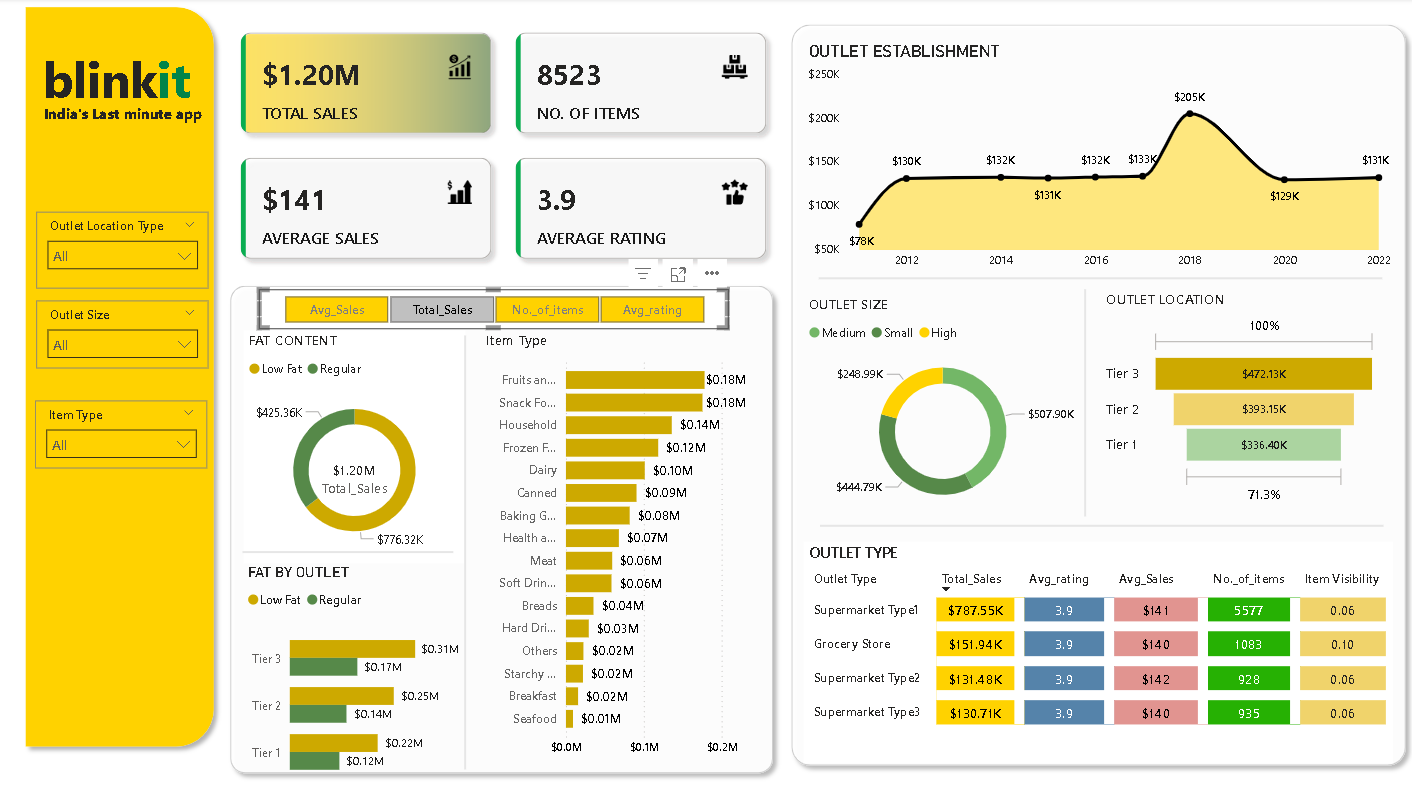

The page's visual inventory and layout, read from the dashboard file:
{"tool":"powerbi","page":{"name":"Page 1","canvas":[1400,800],"ordinal":0},"visuals":[{"type":"shape","box":[16.4,0,204.5,749.8],"z":0},{"type":"textbox","box":[24.5,42.3,181.3,90],"z":1000},{"type":"textbox","box":[31.4,99.5,181.3,32.7],"z":2000},{"type":"cardVisual","fields":{"Data":["BlinkIT Grocery Data.Total_Sales","BlinkIT Grocery Data.No._of_items","BlinkIT Grocery Data.Avg_Sales","BlinkIT Grocery Data.Avg_rating"]},"box":[220.9,17.7,554.9,259],"z":3000},{"type":"shape","box":[219.5,275.4,554.9,500.3],"z":4000},{"type":"donutChart","title":"FAT CONTENT","fields":{"Y":["BlinkIT Grocery Data.No._of_items"],"Category":["BlinkIT Grocery Data.Item Fat Content"]},"box":[241.3,328.6,219.5,230.4],"z":5000},{"type":"slicer","fields":{"Values":["Metrics.Metrics"]},"box":[256.3,287.7,464.9,39.5],"z":6000},{"type":"cardVisual","fields":{"Data":["BlinkIT Grocery Data.No._of_items"]},"box":[291.8,440.4,118.6,61.4],"z":7000},{"type":"clusteredBarChart","title":"FAT BY OUTLET","fields":{"Y":["BlinkIT Grocery Data.No._of_items"],"Category":["BlinkIT Grocery Data.Outlet Location Type"],"Series":["BlinkIT Grocery Data.Item Fat Content"]},"box":[239.9,559,219.5,230.4],"z":8000},{"type":"shape","box":[239.9,538.5,208.6,20.5],"z":9000},{"type":"shape","box":[445.8,334,30,429.5],"z":10000},{"type":"barChart","title":"Item Type","fields":{"Y":["BlinkIT Grocery Data.No._of_items"],"Category":["BlinkIT Grocery Data.Item Type"]},"box":[475.8,328.6,283.6,429.5],"z":11000},{"type":"shape","box":[774.4,17.7,625.8,751.2],"z":12000},{"type":"lineChart","title":"OUTLET ESTABLISHMENT","fields":{"Y":["BlinkIT Grocery Data.Total_Sales"],"Category":["BlinkIT Grocery Data.Outlet Establishment Year"]},"box":[794.8,42.3,586.2,234.5],"z":13000},{"type":"shape","box":[809.8,260.4,557.6,32.7],"z":14000},{"type":"donutChart","title":"OUTLET SIZE","fields":{"Y":["BlinkIT Grocery Data.Total_Sales"],"Category":["BlinkIT Grocery Data.Outlet Size"]},"box":[794.8,293.1,275.4,225],"z":15000},{"type":"funnel","title":"OUTLET LOCATION","fields":{"Y":["BlinkIT Grocery Data.Total_Sales"],"Category":["BlinkIT Grocery Data.Outlet Location Type"]},"box":[1089.3,287.7,278.1,219.5],"z":16000},{"type":"shape","box":[1059.3,287.7,30,225],"z":17000},{"type":"shape","box":[811.2,505.8,557.6,32.7],"z":18000},{"type":"pivotTable","title":"OUTLET TYPE","fields":{"Rows":["BlinkIT Grocery Data.Outlet Type"],"Values":["BlinkIT Grocery Data.Total_Sales","BlinkIT Grocery Data.Avg_rating","BlinkIT Grocery Data.Avg_Sales","BlinkIT Grocery Data.No._of_items","Avg(BlinkIT Grocery Data.Item Visibility)"]},"box":[794.8,538.5,583.5,219.5],"z":19000},{"type":"slicer","title":"OUTLET LOCATION","fields":{"Values":["BlinkIT Grocery Data.Outlet Location Type"]},"box":[35.4,211.3,170.4,76.3],"z":20000},{"type":"slicer","title":"OUTLET LOCATION","fields":{"Values":["BlinkIT Grocery Data.Outlet Size"]},"box":[35.4,299.9,170.4,66.8],"z":21000},{"type":"slicer","title":"OUTLET LOCATION","fields":{"Values":["BlinkIT Grocery Data.Item Type"]},"box":[34.1,398.1,170.4,66.8],"z":22000}]}

Visuals, with their boxes in screenshot pixels (x1, y1, x2, y2), scaled from the page's 1400x800 canvas onto the 1412x792 screenshot:
shape: (17,0,223,742)
textbox: (25,42,208,131)
textbox: (32,99,215,131)
cardVisual - BlinkIT Grocery Data.Total_Sales x BlinkIT Grocery Data.No._of_items: (223,18,782,274)
shape: (221,273,781,768)
"FAT CONTENT" donutChart: (243,325,465,553)
slicer - Metrics.Metrics: (258,285,727,324)
cardVisual - BlinkIT Grocery Data.No._of_items: (294,436,414,497)
"FAT BY OUTLET" clusteredBarChart: (242,553,463,782)
shape: (242,533,452,553)
shape: (450,331,480,756)
"Item Type" barChart: (480,325,766,751)
shape: (781,18,1411,761)
"OUTLET ESTABLISHMENT" lineChart: (802,42,1393,274)
shape: (817,258,1379,290)
"OUTLET SIZE" donutChart: (802,290,1079,513)
"OUTLET LOCATION" funnel: (1099,285,1379,502)
shape: (1068,285,1099,508)
shape: (818,501,1381,533)
"OUTLET TYPE" pivotTable: (802,533,1390,750)
"OUTLET LOCATION" slicer: (36,209,208,285)
"OUTLET LOCATION" slicer: (36,297,208,363)
"OUTLET LOCATION" slicer: (34,394,206,460)
